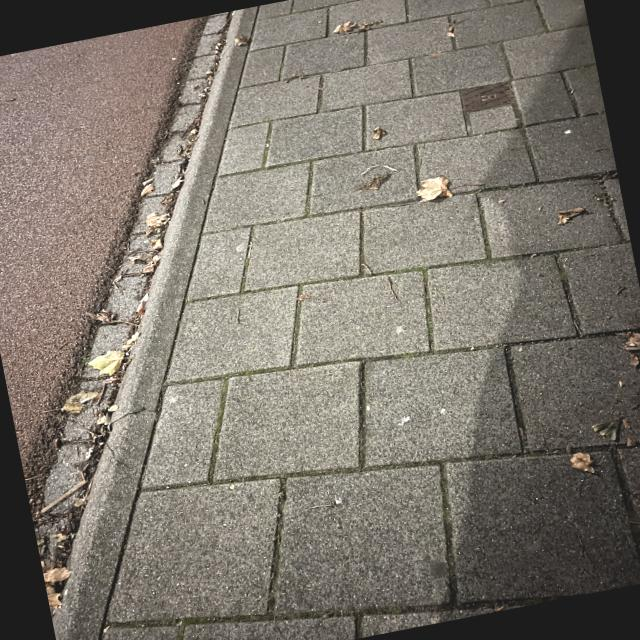leaves: (621, 425, 640, 582), (39, 542, 76, 618), (416, 168, 461, 210), (331, 12, 388, 41), (54, 384, 102, 418), (617, 325, 640, 390), (548, 200, 598, 228), (565, 446, 601, 482), (138, 206, 180, 236), (90, 351, 130, 379), (370, 116, 398, 154), (144, 235, 170, 273), (134, 172, 161, 202), (228, 33, 256, 51)
pavement: (74, 16, 639, 639), (0, 15, 214, 454)
plants: (241, 260, 285, 293)
weedling: (497, 344, 507, 348)
